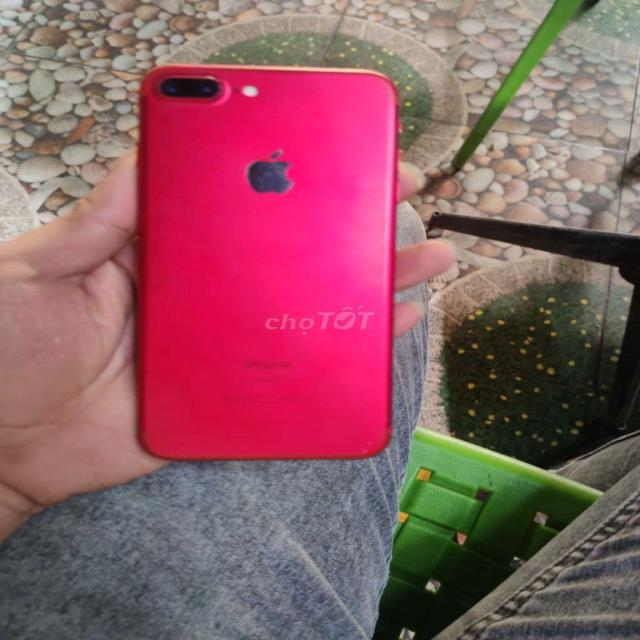scratch: (245, 146, 296, 195), (154, 65, 222, 101), (354, 414, 396, 459)
